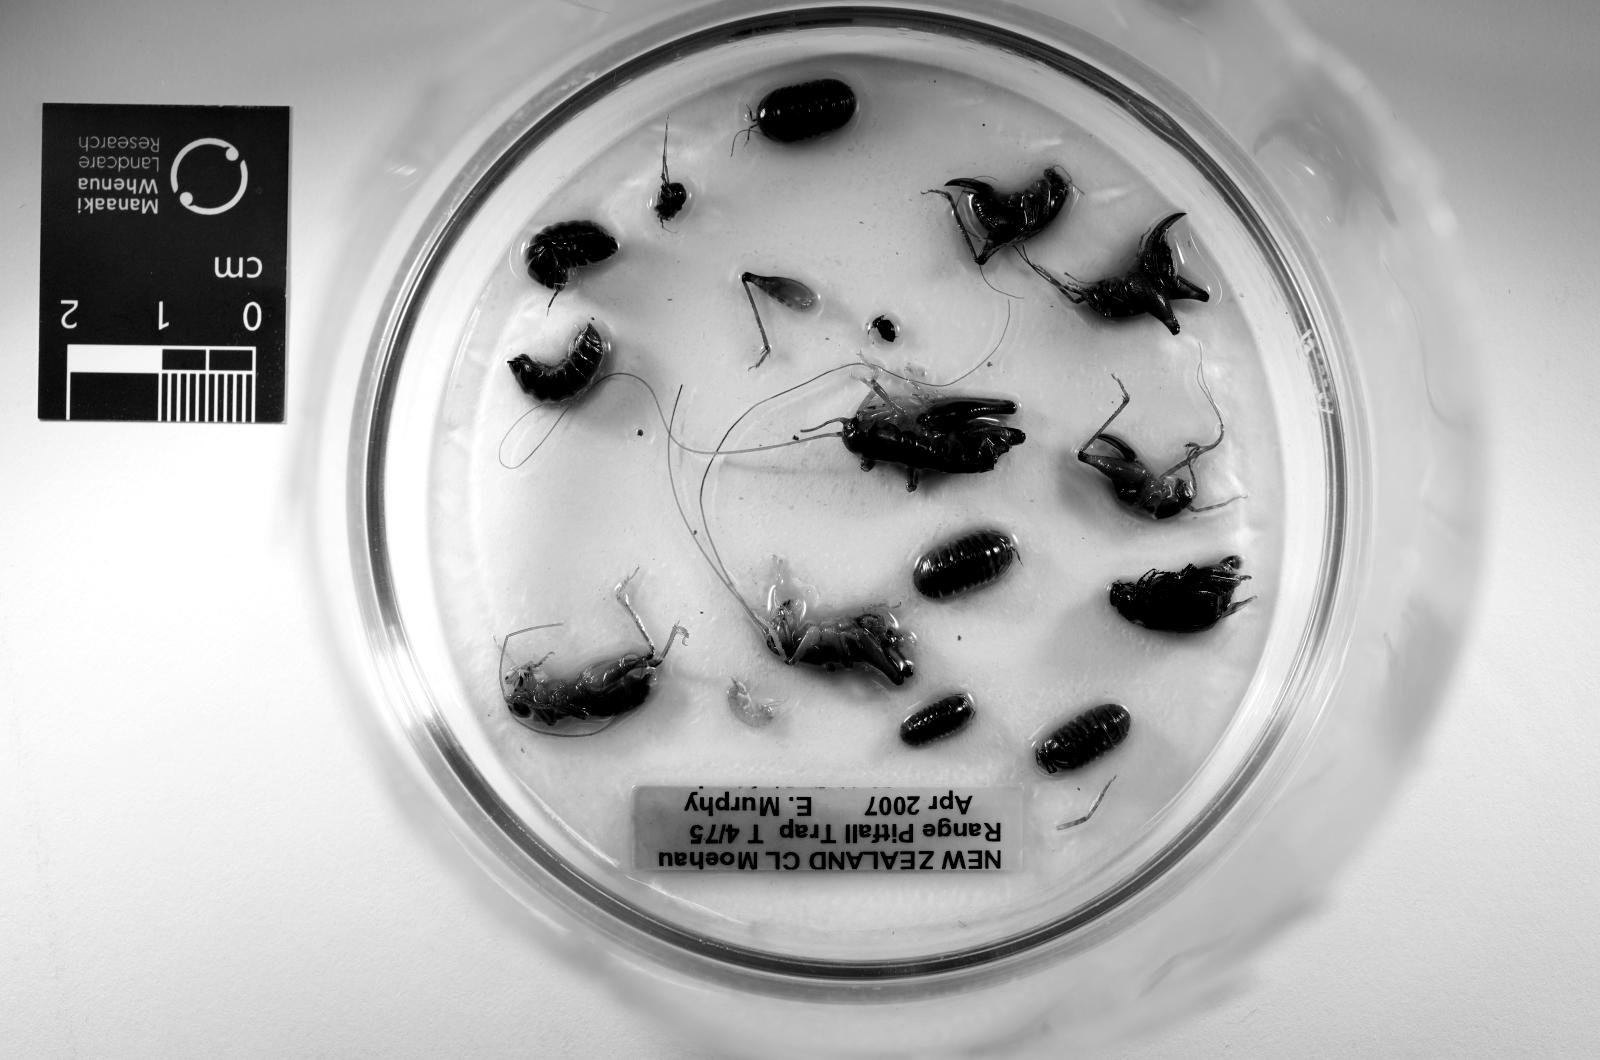amphipoda: (728, 680, 775, 730)
coleoptera: (1109, 556, 1250, 631), (872, 317, 896, 342)
isopoda: (510, 323, 607, 403), (913, 531, 1016, 600), (525, 220, 618, 295), (1035, 705, 1132, 774), (757, 78, 856, 143), (900, 696, 974, 745)
opiliones: (653, 121, 687, 224)
orthoptera: (503, 584, 687, 726), (1078, 376, 1241, 518), (1031, 211, 1210, 332), (835, 379, 1025, 491), (765, 558, 913, 686), (947, 168, 1069, 267)
